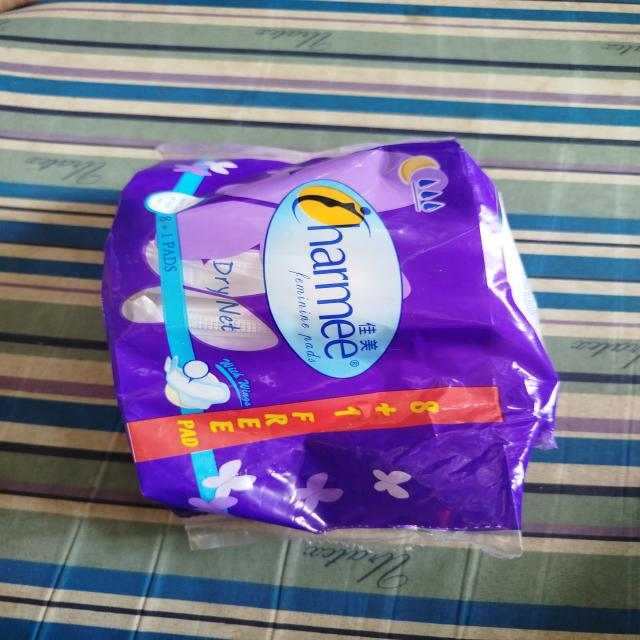residual: (83, 132, 595, 572)
